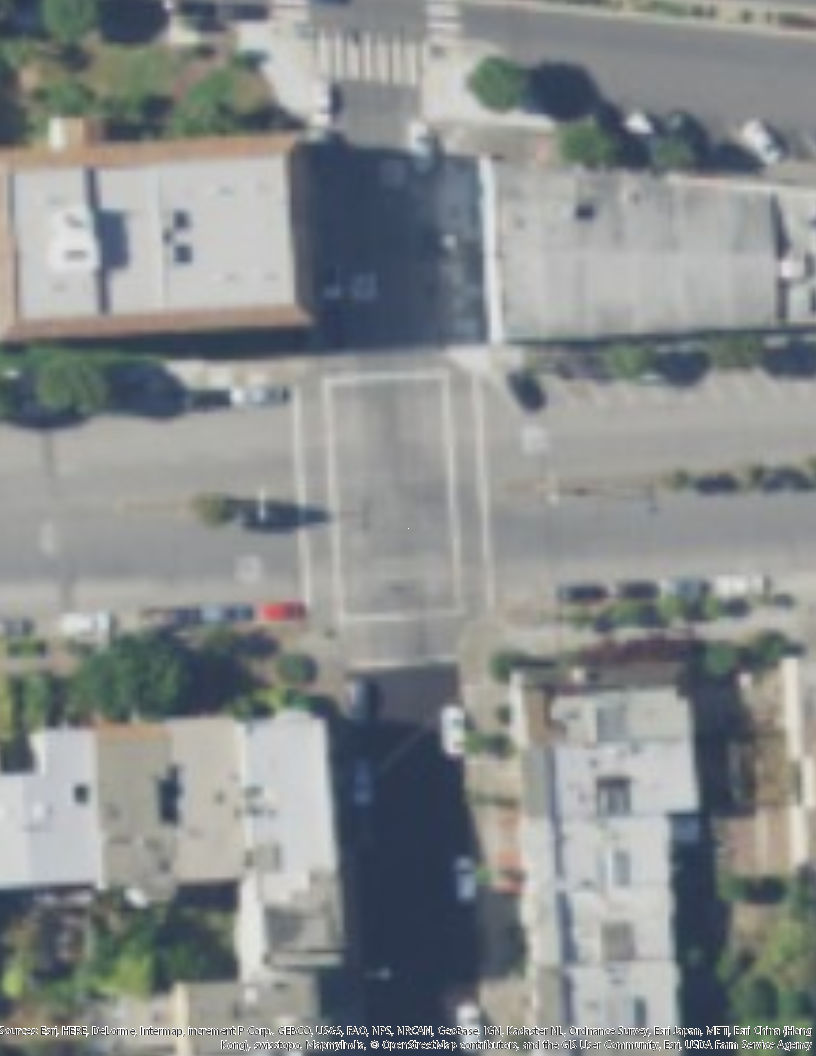zebracross: (310, 35, 422, 84), (426, 1, 462, 39)
